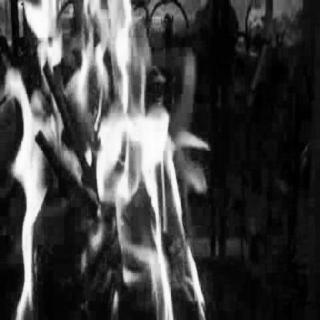Fire: (0, 0, 208, 314)
